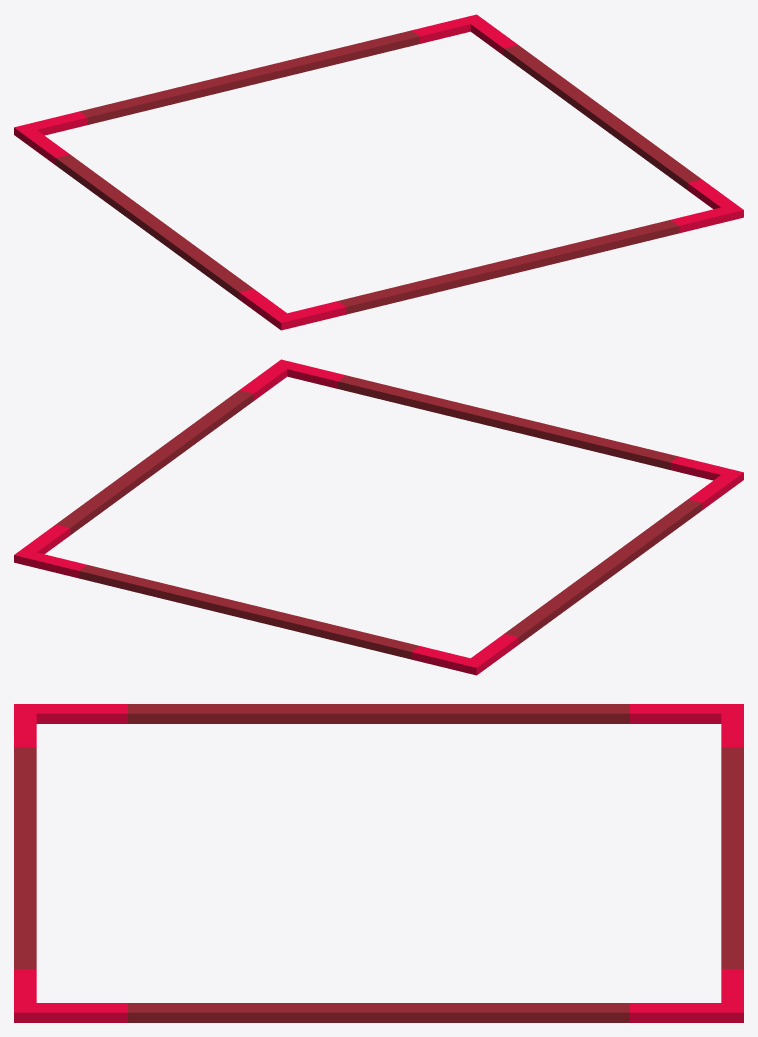
The model's file is towerSlice4.obj.
3 renders of one model, top to bottom at view 1: azimuth 30°, elevation 25°; view 2: azimuth 150°, elevation 25°; view 3: azimuth 270°, elevation 25°, orthographic. The views are drawn at different scales.
Size of the model in its own units: 6.4 by 0.1 by 6.4.
Materials: 1 (1 with a texture image).
